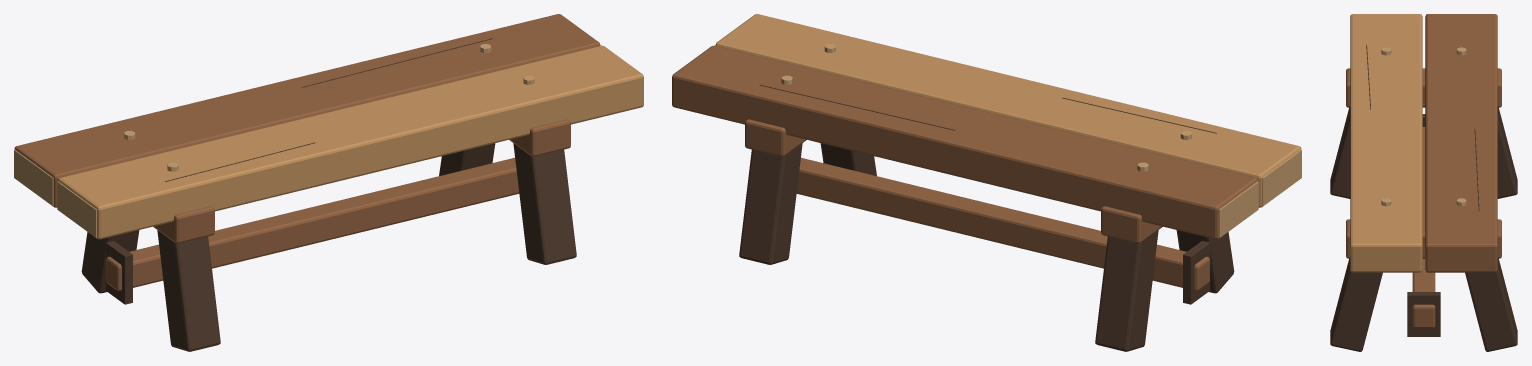
The model's file is bench_low.glb.
The picture shows the model from 3 angles, left to right: view 1: azimuth 30°, elevation 25°; view 2: azimuth 150°, elevation 25°; view 3: azimuth 270°, elevation 25°; orthographic projection. The views are drawn at different scales.
Visible parts, largest first — view 1: bench_low__structure, bench_low__finish; view 2: bench_low__structure, bench_low__finish; view 3: bench_low__structure, bench_low__finish.
Part boxes in pixels (bbox=[...]): bench_low__structure: bbox=[14, 14, 643, 351]; bench_low__finish: bbox=[14, 38, 534, 304]; bench_low__structure: bbox=[672, 14, 1301, 351]; bench_low__finish: bbox=[759, 44, 1301, 304]; bench_low__structure: bbox=[1330, 14, 1517, 351]; bench_low__finish: bbox=[1366, 44, 1479, 336].
Bounding box in the file's own units: 1.72 × 0.5043 × 0.5885.
